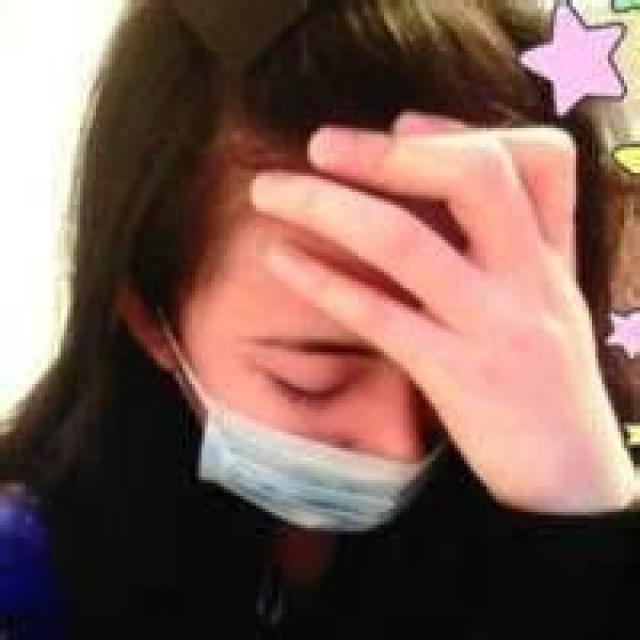mask: (190, 187, 494, 530)
